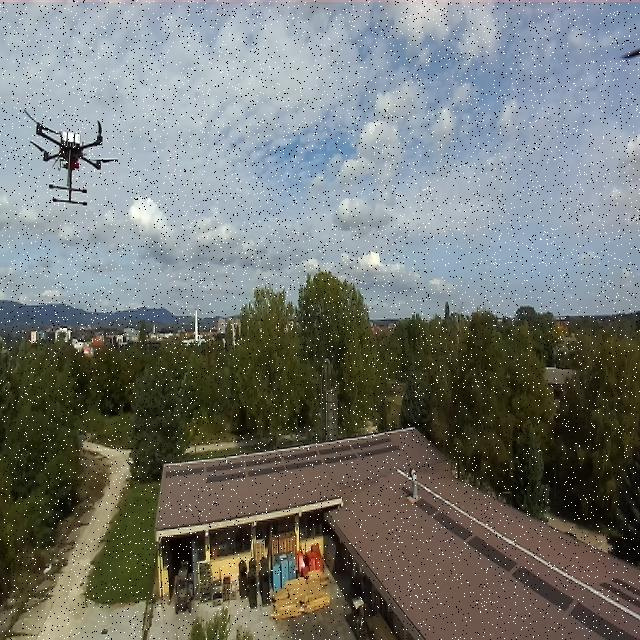UAV: (21, 106, 121, 210)
